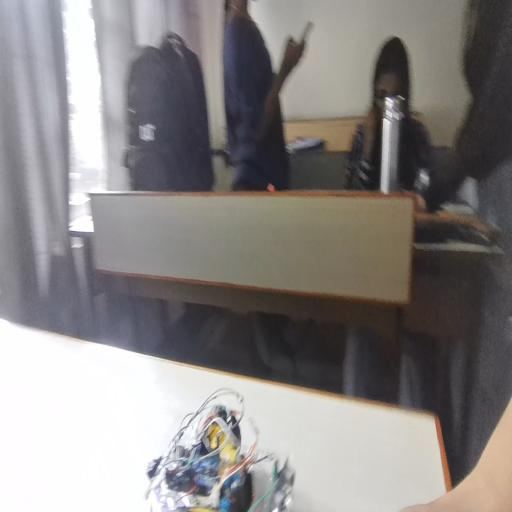car: (169, 402, 280, 512)
